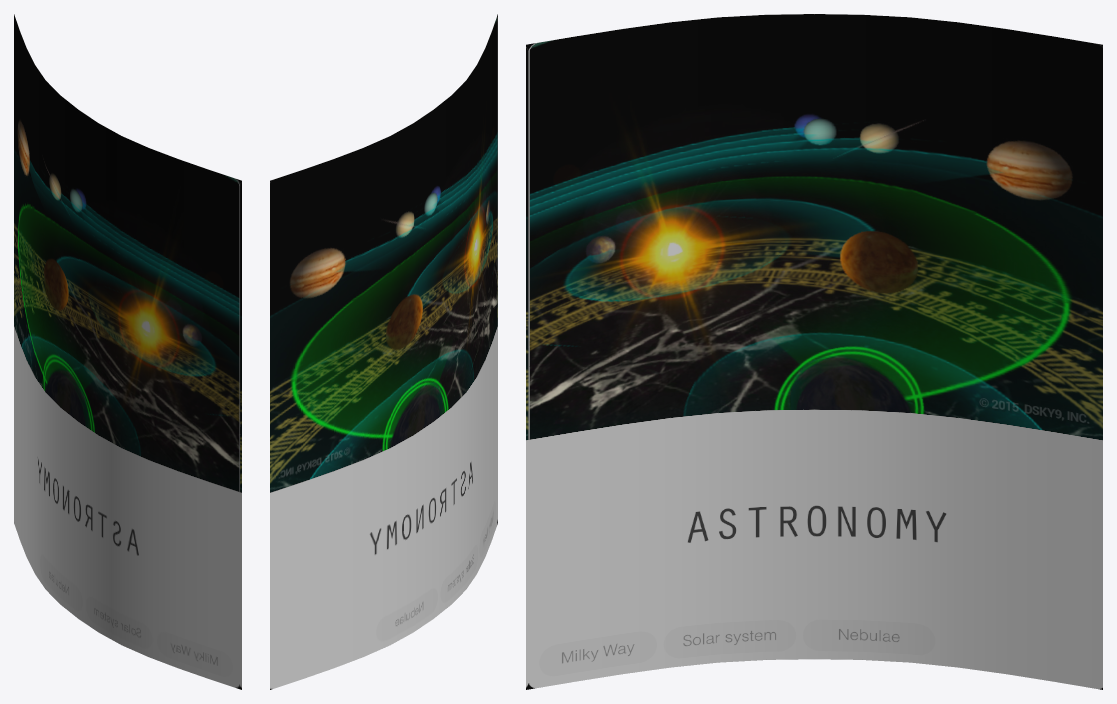
Rendered from panel1.fbx.
The picture shows the model from 3 angles, left to right: view 1: azimuth 30°, elevation 25°; view 2: azimuth 150°, elevation 25°; view 3: azimuth 270°, elevation 25°; orthographic projection. The views are drawn at different scales.
Visible parts, largest first — view 1: panel1:polySurface1; view 2: panel1:polySurface1; view 3: panel1:polySurface1.
Part boxes in pixels (x1,y1,x2,y2): panel1:polySurface1: (14, 14, 241, 689); panel1:polySurface1: (270, 14, 497, 689); panel1:polySurface1: (526, 14, 1102, 689).
Bounding box in the file's own units: 6.78 × 66.31 × 53.73.
Materials: 1 (1 with a texture image).
